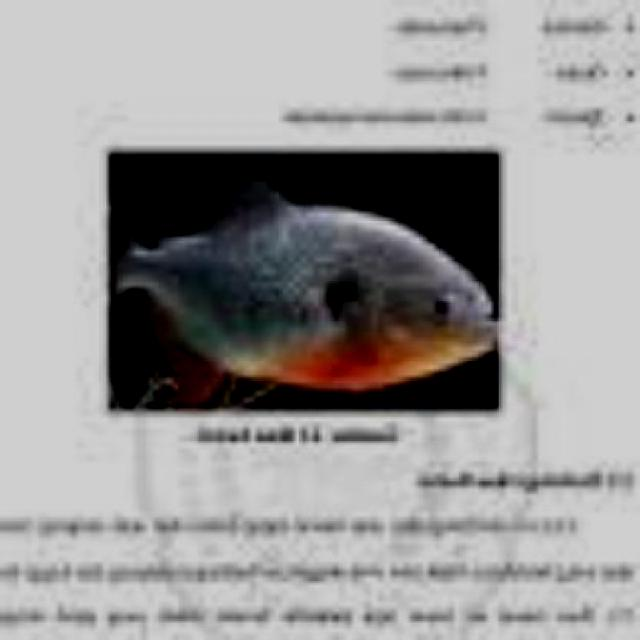ikan-pacu: (116, 185, 493, 393)
